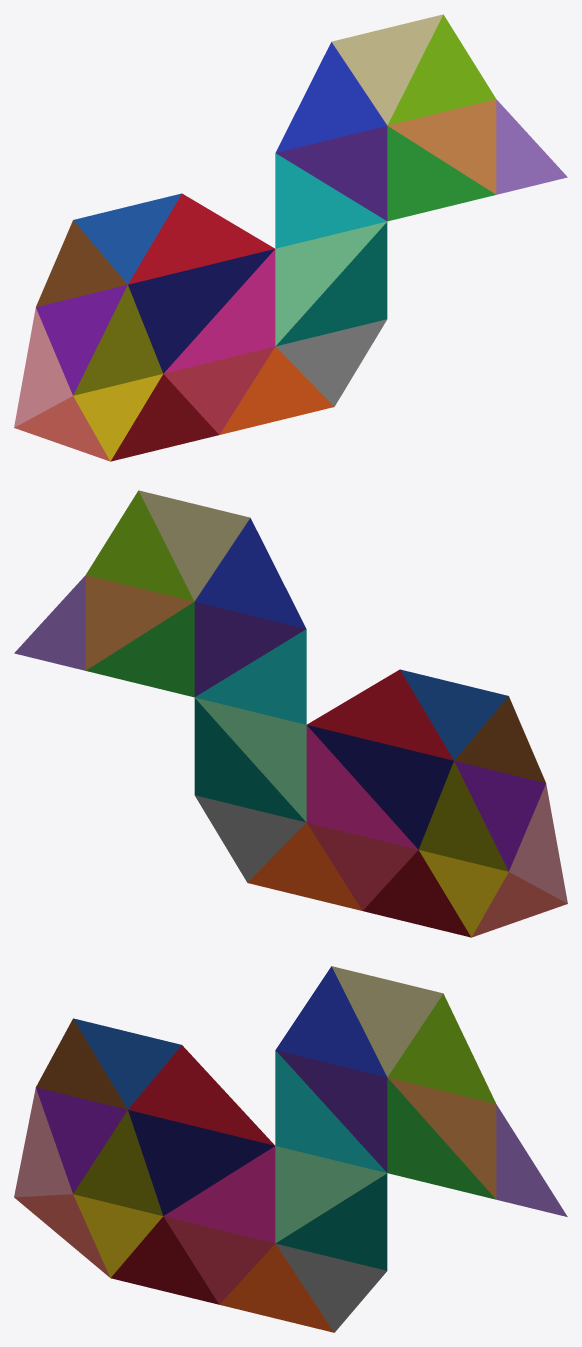
The model's file is paper.obj.
The picture shows the model from 3 angles, top to bottom: view 1: azimuth 30°, elevation 25°; view 2: azimuth 150°, elevation 25°; view 3: azimuth 330°, elevation 25°; orthographic projection.
Size of the model in its own units: 8.9 by 5.62 by 0.
